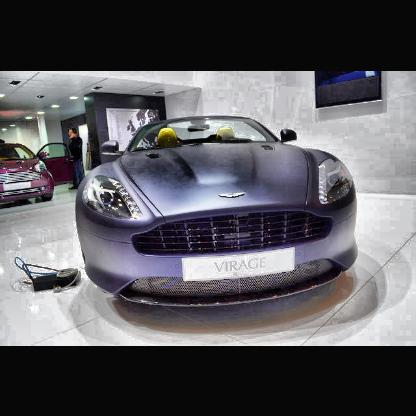Aston Martin Virage Convertible 2012: (75, 115, 360, 312)
